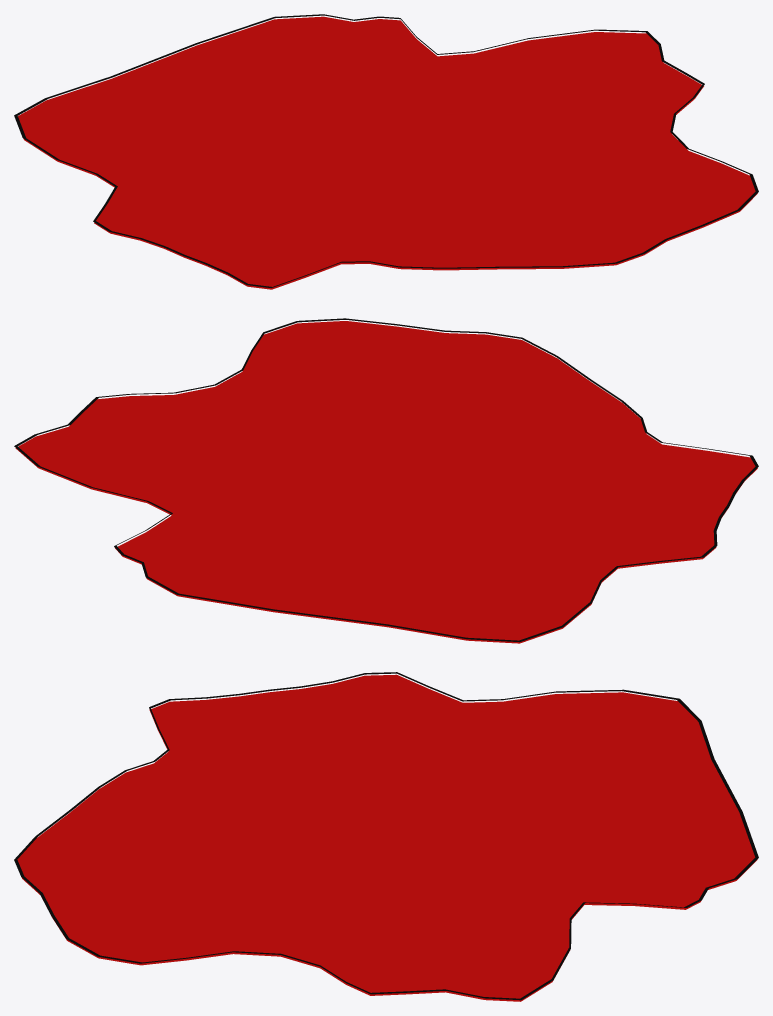
File: Puddle3.fbx
The picture shows the model from 3 angles, top to bottom: view 1: azimuth 30°, elevation 25°; view 2: azimuth 150°, elevation 25°; view 3: azimuth 270°, elevation 25°; orthographic projection. The views are drawn at different scales.
Parts seen in each view (by area): view 1: Plane.005; view 2: Plane.005; view 3: Plane.005.
Part boxes in pixels (x1,y1,x2,y2): Plane.005: (14, 14, 758, 289); Plane.005: (14, 318, 758, 643); Plane.005: (14, 672, 758, 1001).
Size of the model in its own units: 103 by 0.3117 by 98.38.
